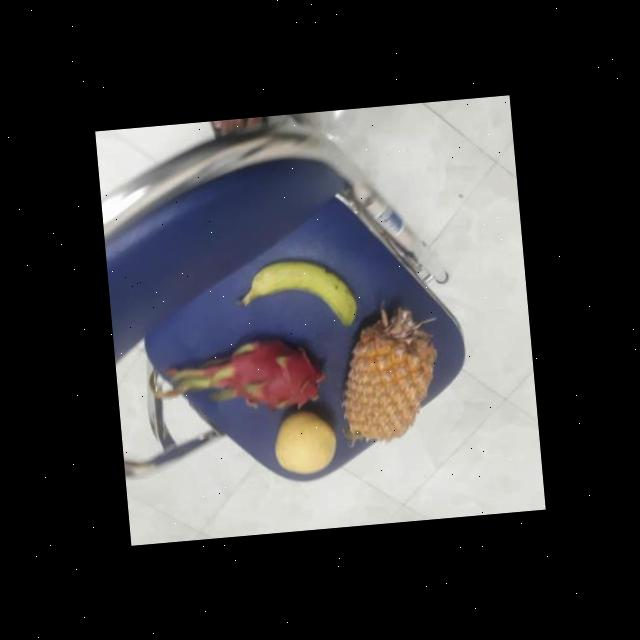banana: (242, 254, 356, 338)
pear: (268, 407, 340, 478)
pineapple: (338, 332, 453, 448)
pitaya: (202, 331, 322, 417)
